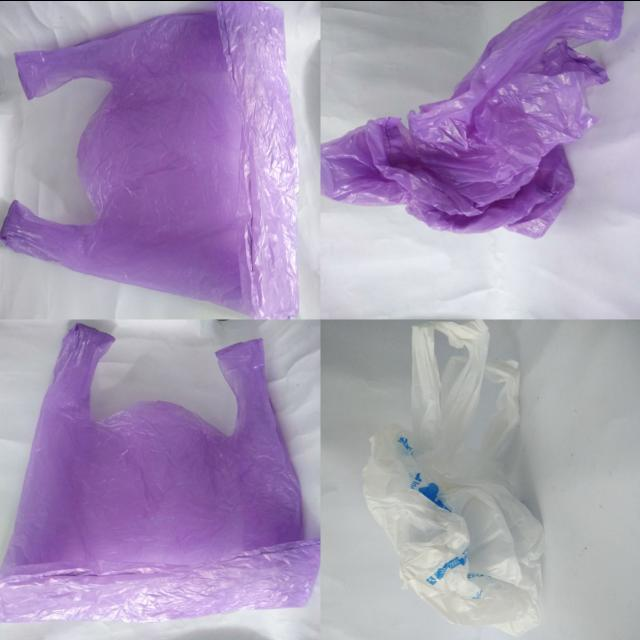plastik: (0, 322, 319, 621), (0, 0, 298, 317), (321, 0, 623, 237), (364, 320, 543, 633)
